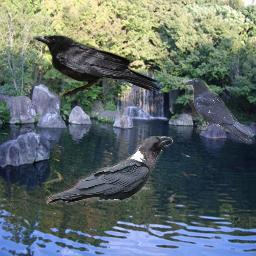Crow: (46, 136, 173, 205), (33, 34, 163, 100), (183, 78, 254, 145)
